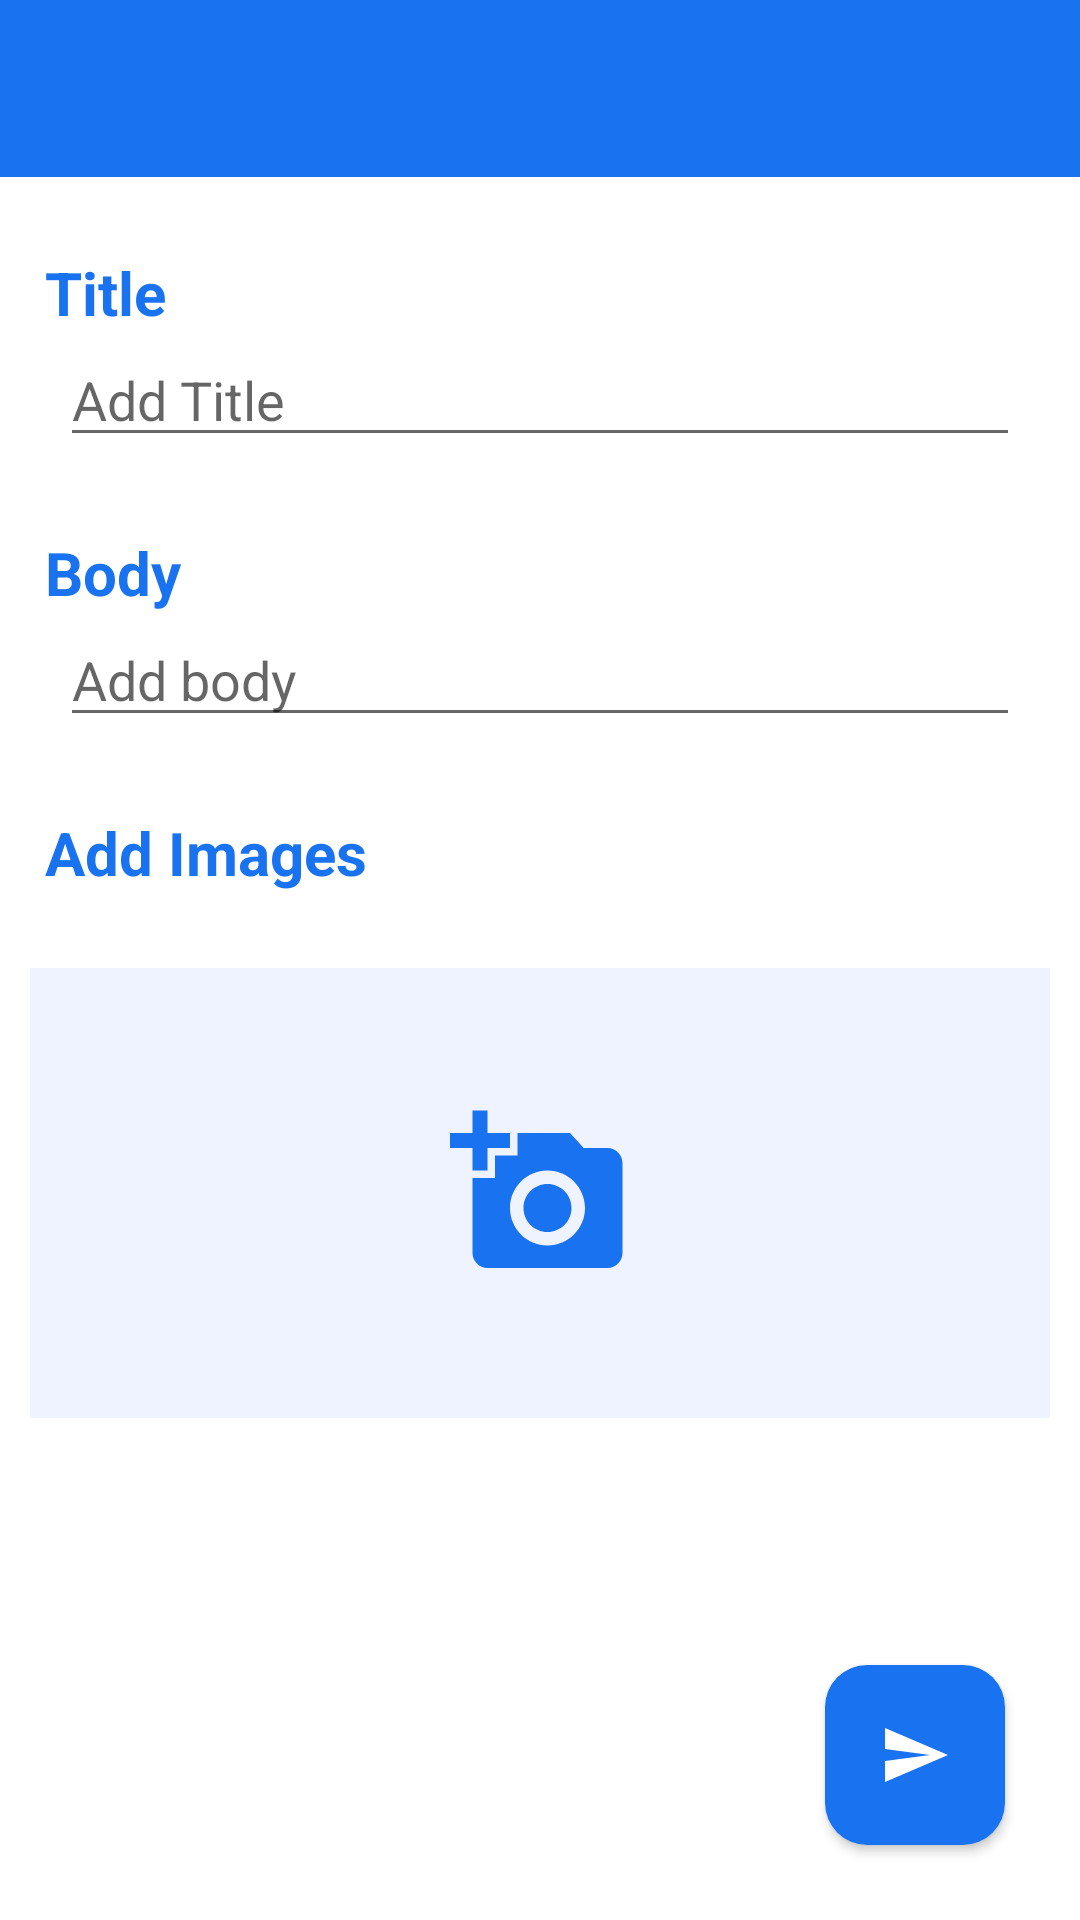

Named icons in this screenshot (1080w x 1920h) and their centers, (x=x, y=y):
send 24white: (x=915, y=1755)
